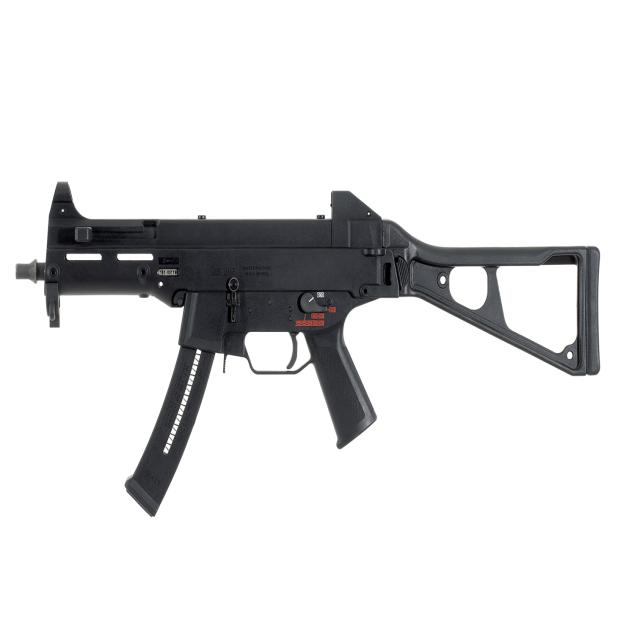Gun: (42, 129, 624, 564)
